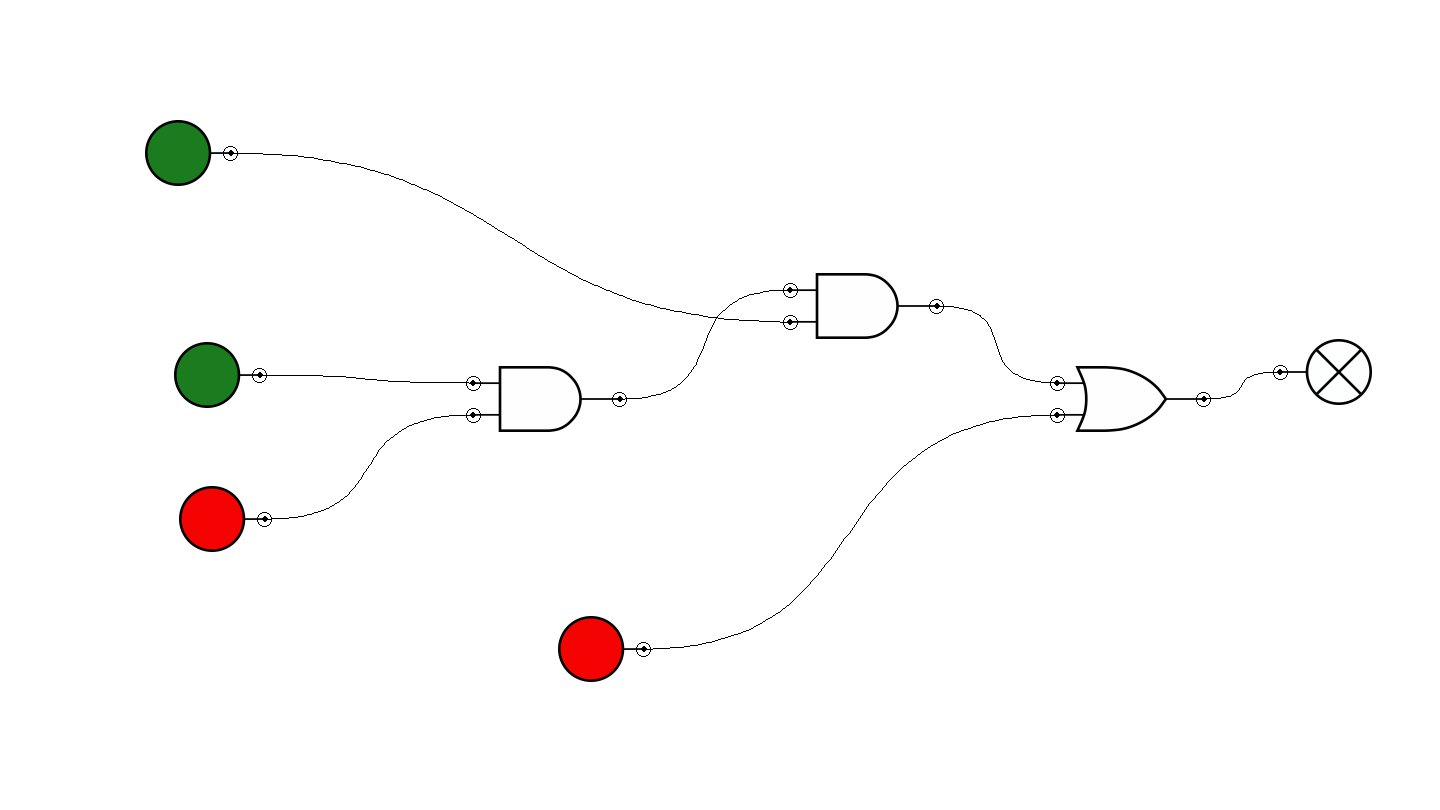and: (783, 273, 944, 339), (466, 366, 627, 432)
bulb: (1273, 339, 1372, 405)
or: (1050, 366, 1211, 432)
switch_False: (179, 486, 272, 552), (558, 616, 651, 682)
switch_True: (174, 342, 267, 408), (145, 120, 238, 186)
